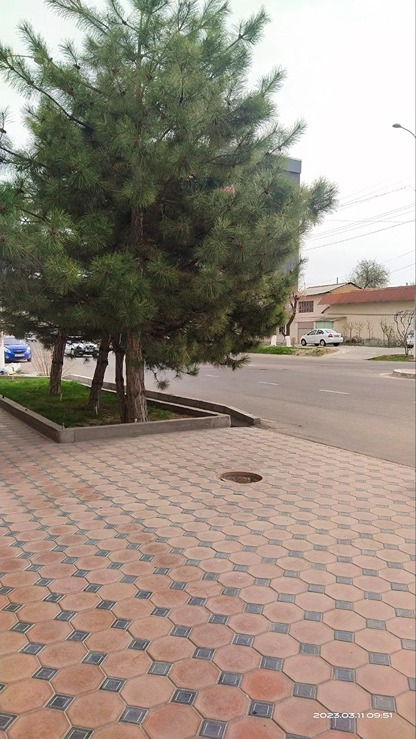car: (0, 325, 39, 375), (299, 325, 351, 350), (60, 336, 99, 362)
tree: (0, 0, 313, 405)
